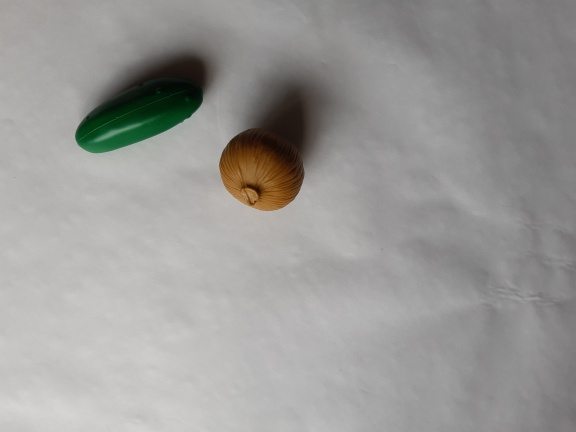cucumber: (71, 70, 211, 159)
onion: (213, 125, 309, 218)
